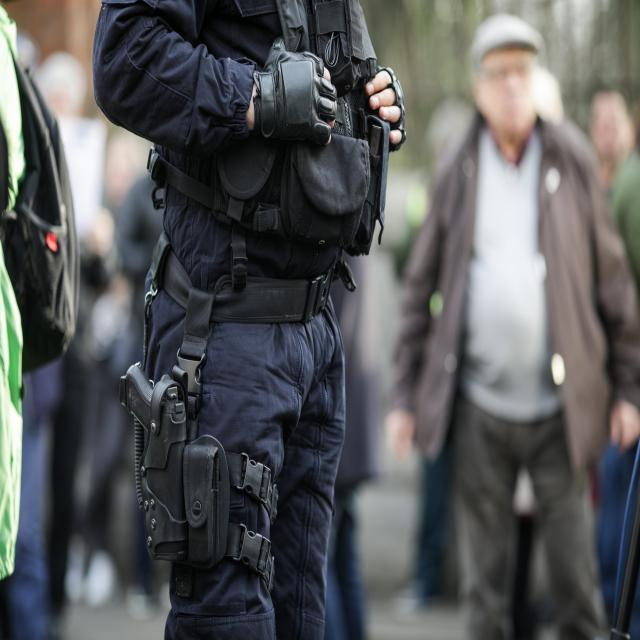police: (90, 0, 407, 640)
